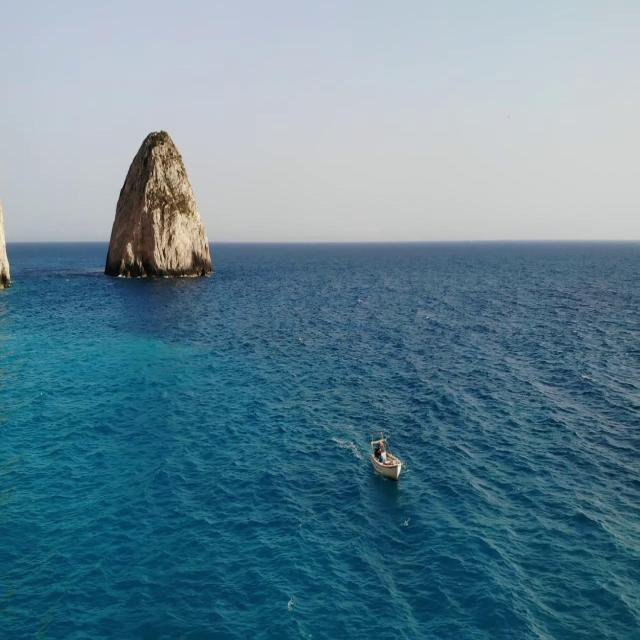boat: (370, 434, 402, 491)
